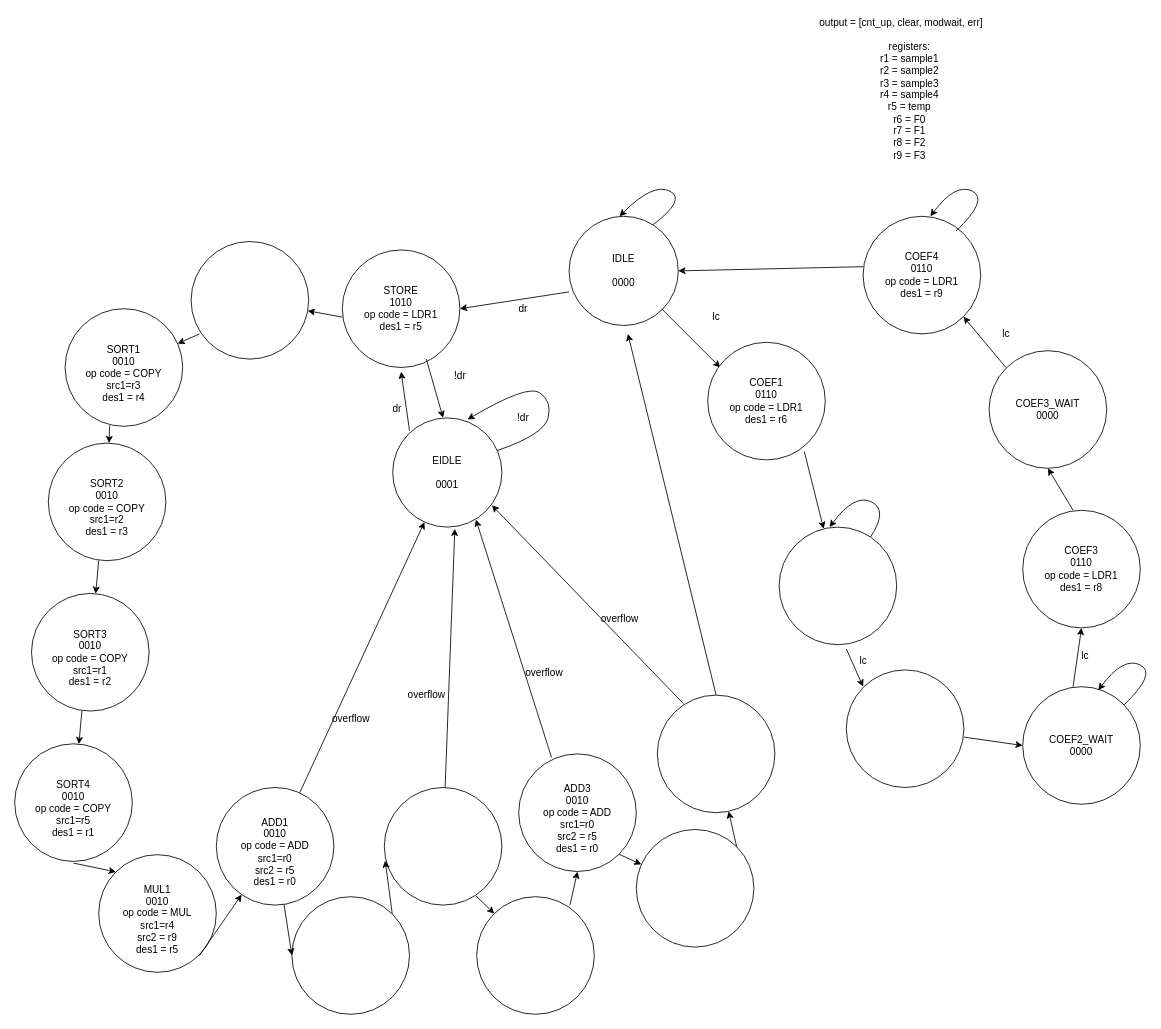
Image size: 1161x1029. Some labels were removed from this diagram. The shapes that lost their labels are listed below. From the top down, each one's centre as x and y in pixels, then its label:
point 249,300: ZERO 0010 op code = LDR2 des1 = r0
point 837,585: COEF1_WAIT 0000
point 904,728: COEF2 0110 op code = LDR1 des1 = r7
point 715,753: SUB4 0010 op code = SUB src1=r0 src2 = r5 des1 = r0
point 442,846: SUB2 0010 op code = SUB src1=r0 src2 = r5 des1 = r0
point 694,888: MUL4 0010 op code = MUL src1=r1 src2 = r6 des1 = r5
point 350,955: MUL2 0010 op code = MUL src1=r3 src2 = r8 des1 = r5
point 535,955: MUL3 0010 op code = MUL src1=r2 src2 = r7 des1 = r5
